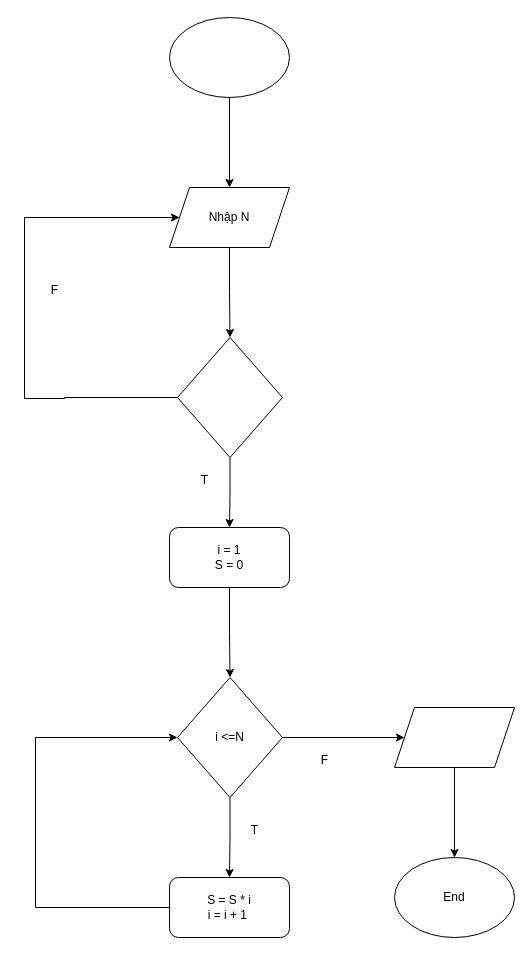
Image size: 532x955. Some labels were removed from this diagram. The shapes that lost their labels are listed below. From the top down, each one's centre as x and y in pixels, then its label:
pixel 229 57: Start
pixel 229 397: N > 0
pixel 454 737: In giá trị S
